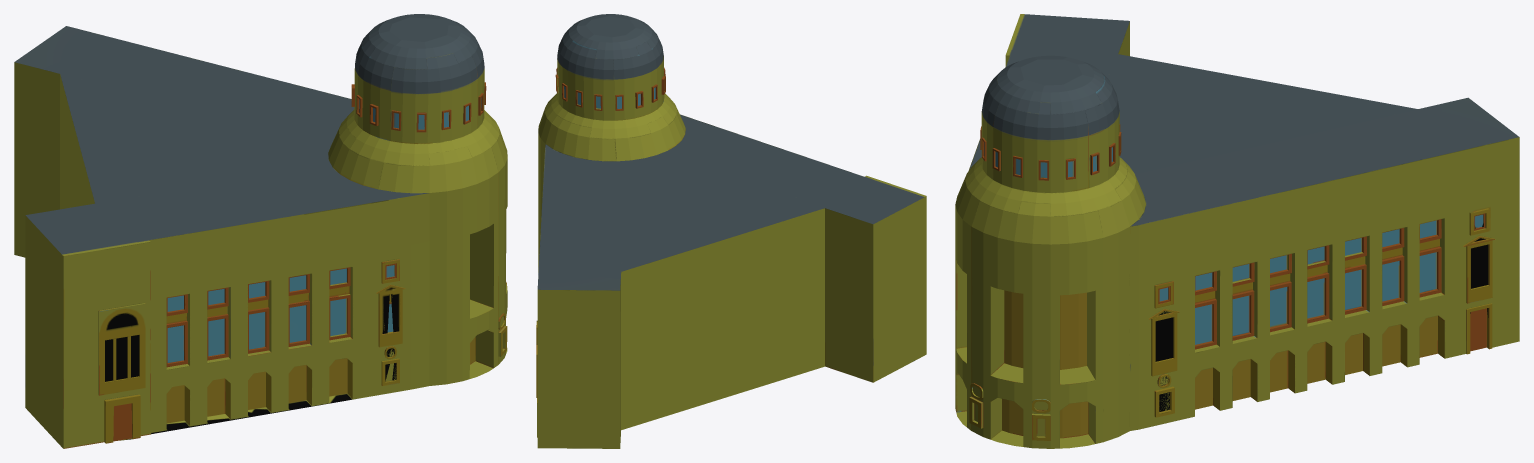
Rendered from bcu.fbx.
3 views of the same model, side by side, from view 1: azimuth 30°, elevation 25°; view 2: azimuth 150°, elevation 25°; view 3: azimuth 270°, elevation 25° (orthographic). The views are drawn at different scales.
Visible parts, largest first — view 1: Cylinder; view 2: Cylinder; view 3: Cylinder.
Boxes of the visible parts, box(x1,y1,x2,y2) form: Cylinder: box(14, 14, 507, 448); Cylinder: box(536, 14, 926, 448); Cylinder: box(955, 14, 1519, 448).
Bounding box in the file's own units: 693 × 470 × 711.
1 material, 1 textured.
